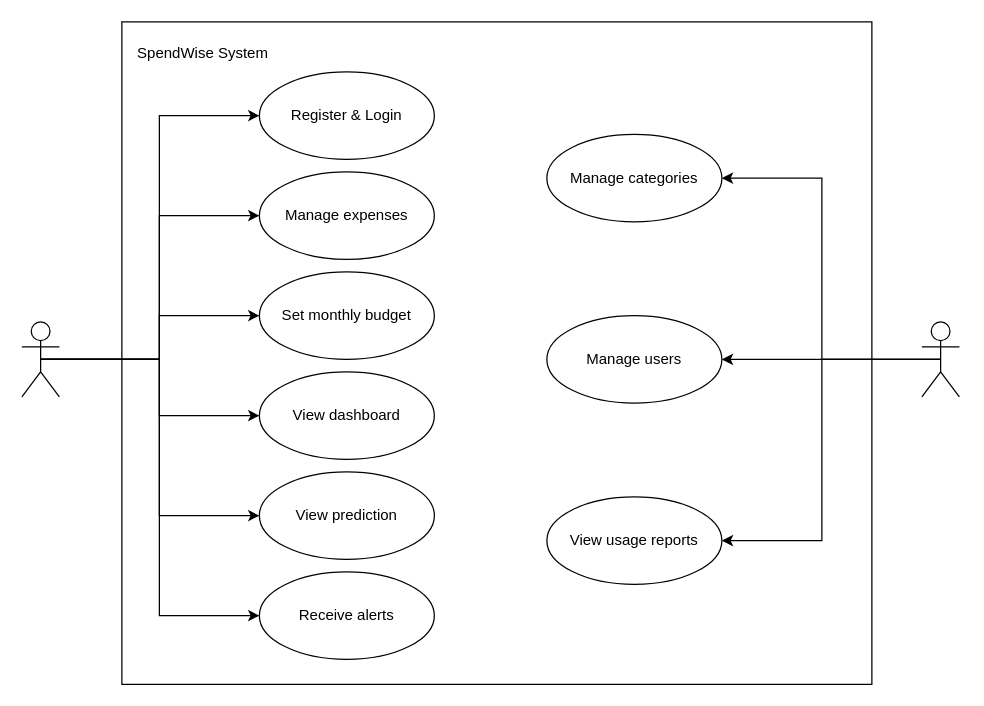
Some shapes in this 984 by 706 pixel diagram are drawn without their labels. The shapes that lost their labels are listed below. From the top down, each one's centre as x and y in pixels, then its label:
point (40, 359): User
point (940, 359): Admin
